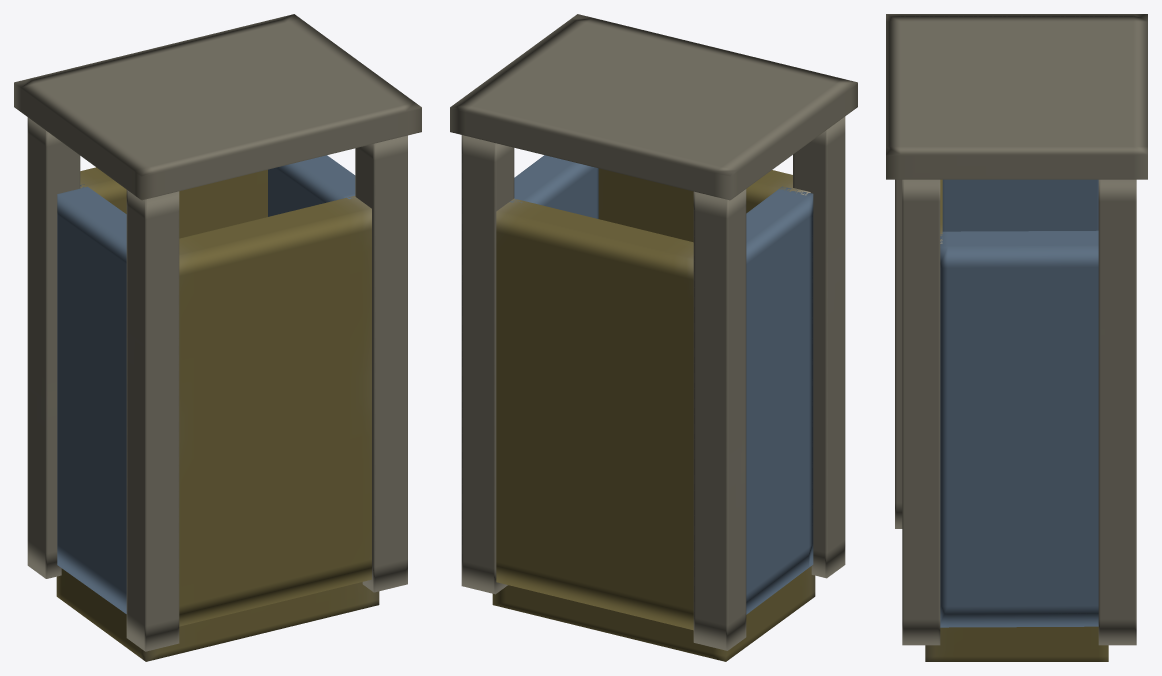
The model's file is trashcan.glb.
3 renders of one model, left to right at view 1: azimuth 30°, elevation 25°; view 2: azimuth 150°, elevation 25°; view 3: azimuth 270°, elevation 25°, orthographic. The views are drawn at different scales.
Parts seen in each view (by area): view 1: Object_3, Object_2; view 2: Object_3, Object_2; view 3: Object_3, Object_2.
Part boxes in pixels (left/top/right/bottom): Object_3: left=14, top=14, right=421, bottom=626; Object_2: left=27, top=117, right=407, bottom=661; Object_3: left=450, top=14, right=857, bottom=630; Object_2: left=461, top=116, right=845, bottom=661; Object_3: left=886, top=14, right=1147, bottom=627; Object_2: left=895, top=179, right=1136, bottom=661.
Size of the model in its own units: 5.86 by 10.11 by 4.62.
